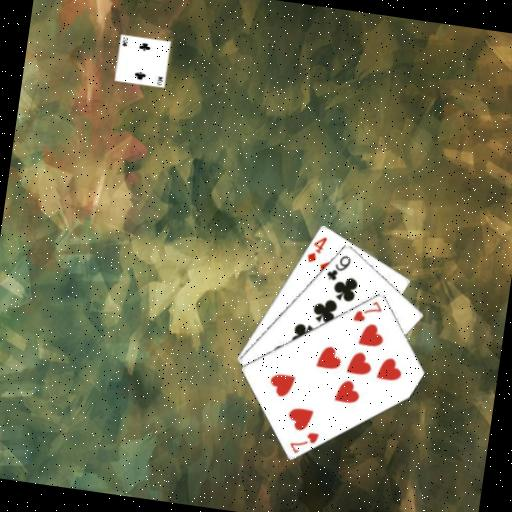4D: (303, 231, 329, 266)
7H: (285, 426, 321, 458), (350, 295, 385, 326)
9C: (323, 250, 354, 285)
